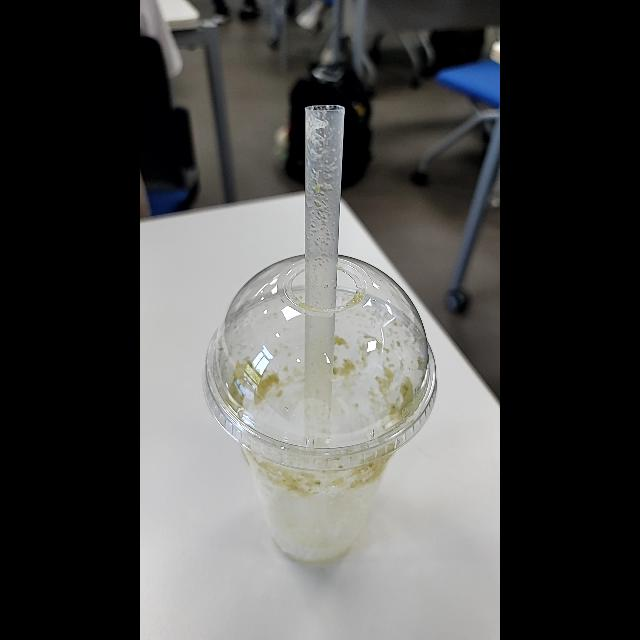plastic_cup: (200, 253, 440, 569)
plastic_cup_lid: (202, 252, 442, 468)
straw: (302, 103, 344, 460)
